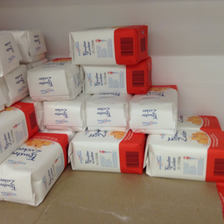sugar: (2, 131, 69, 205), (145, 128, 224, 183), (69, 130, 146, 175), (68, 23, 147, 65), (130, 81, 177, 136), (25, 55, 80, 100), (80, 60, 152, 94)
